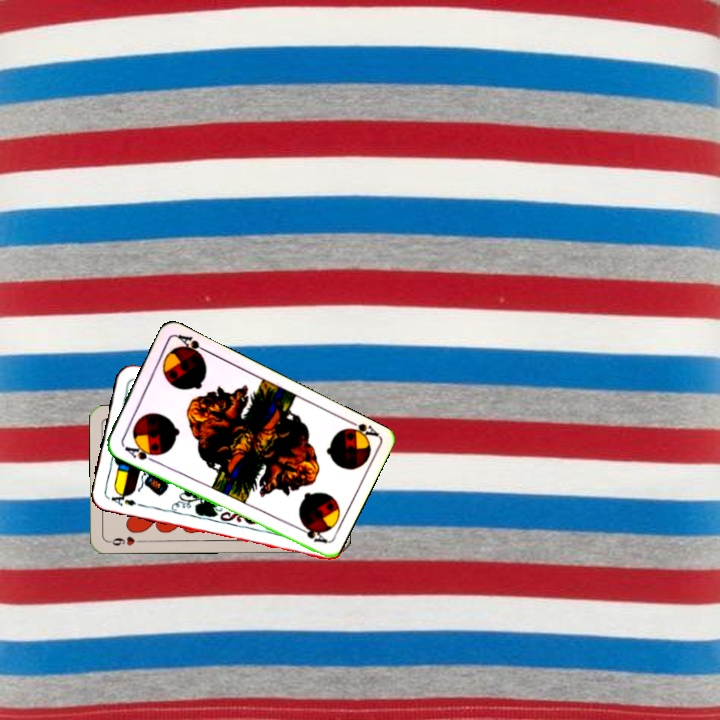EA: (104, 488, 139, 509)
H9: (105, 532, 145, 548)
SA: (339, 415, 381, 445), (118, 440, 159, 465)
